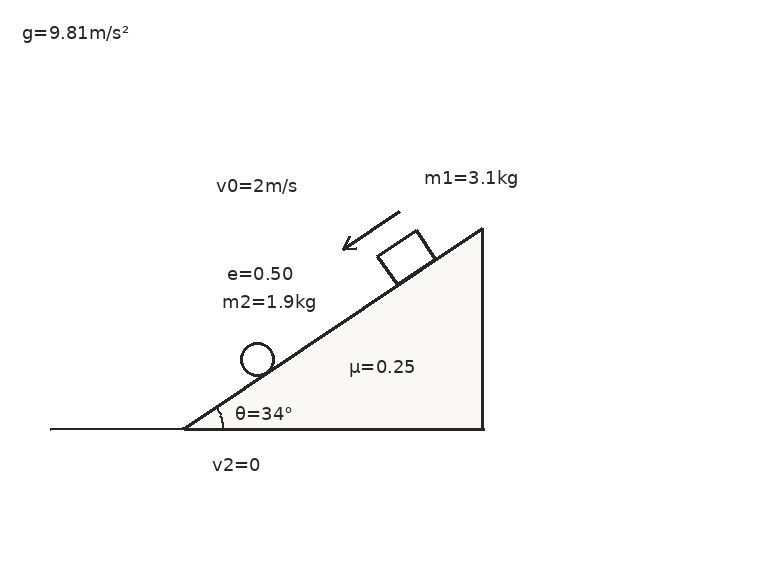ball: (238, 340, 276, 378)
block: (376, 229, 437, 287)
ramp: (181, 225, 484, 431)
